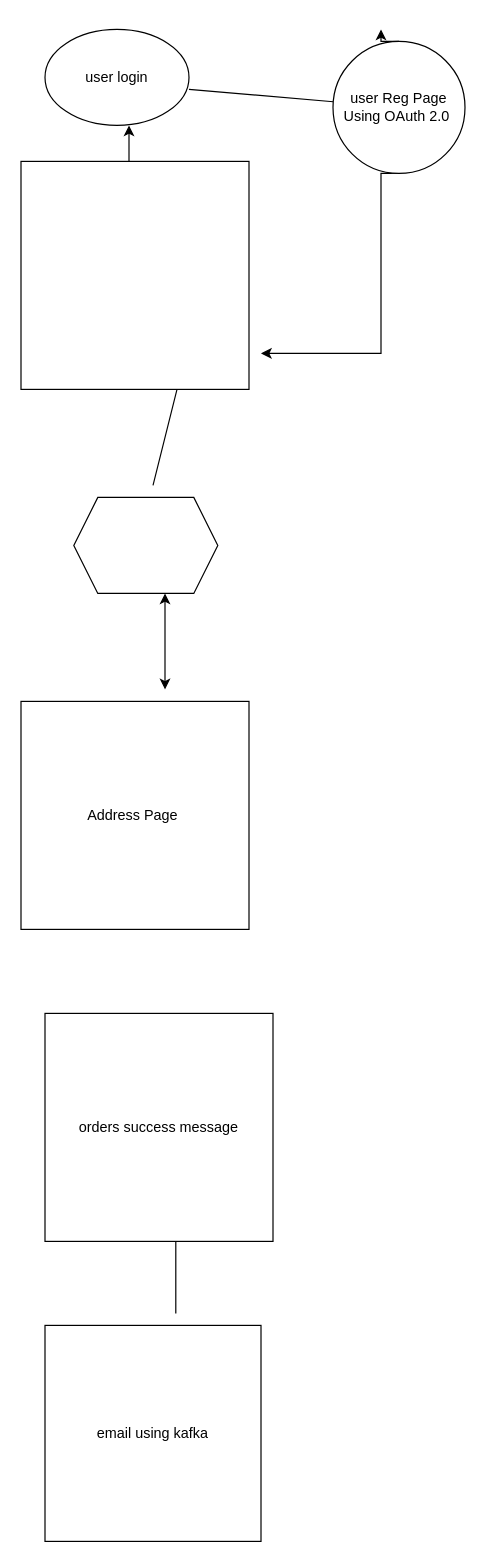
Image size: 486x1562. Some labels were removed from this diagram. Each missing label, with the box of its shape:
HOME Page: (20, 160, 249, 389)
order page: (73, 496, 218, 593)
